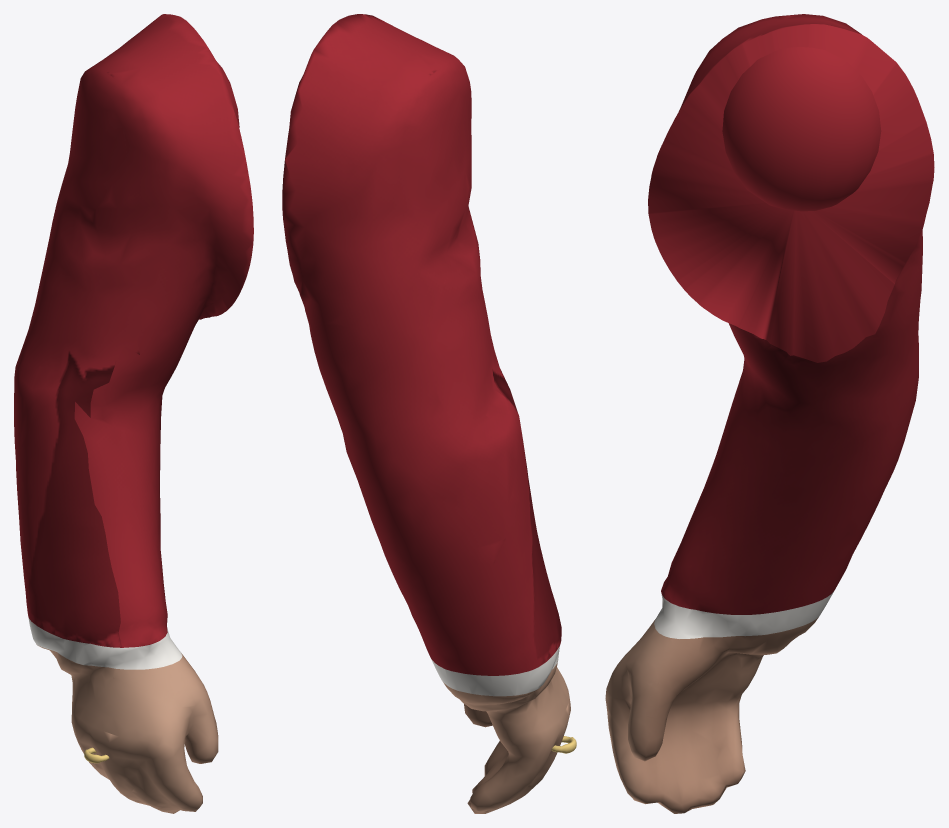
The model's file is char_partner_90s_arm_r.glb.
3 views of the same model, side by side, from view 1: azimuth 30°, elevation 25°; view 2: azimuth 150°, elevation 25°; view 3: azimuth 270°, elevation 25° (orthographic). The views are drawn at different scales.
Visible parts, largest first — view 1: HeroArmR; view 2: HeroArmR; view 3: HeroArmR.
Boxes of the visible parts, x1=… form: HeroArmR: x1=14, y1=14, x2=253, y2=813; HeroArmR: x1=282, y1=14, x2=576, y2=813; HeroArmR: x1=605, y1=14, x2=934, y2=813.
Size of the model in its own units: 0.2112 by 0.7193 by 0.2583.
4 materials, 2 textured.
